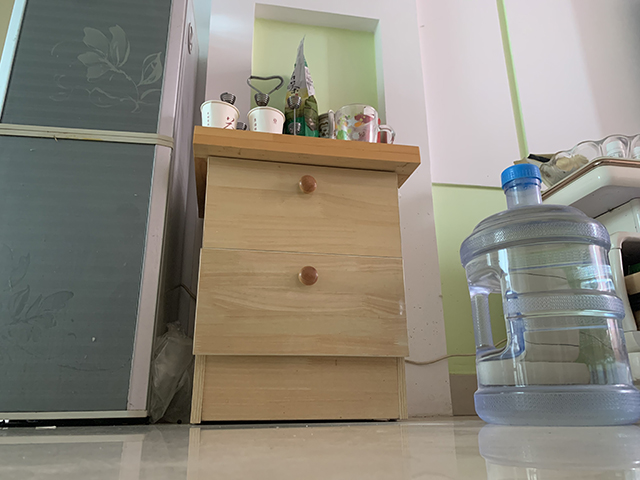cabinet: (187, 121, 424, 424)
